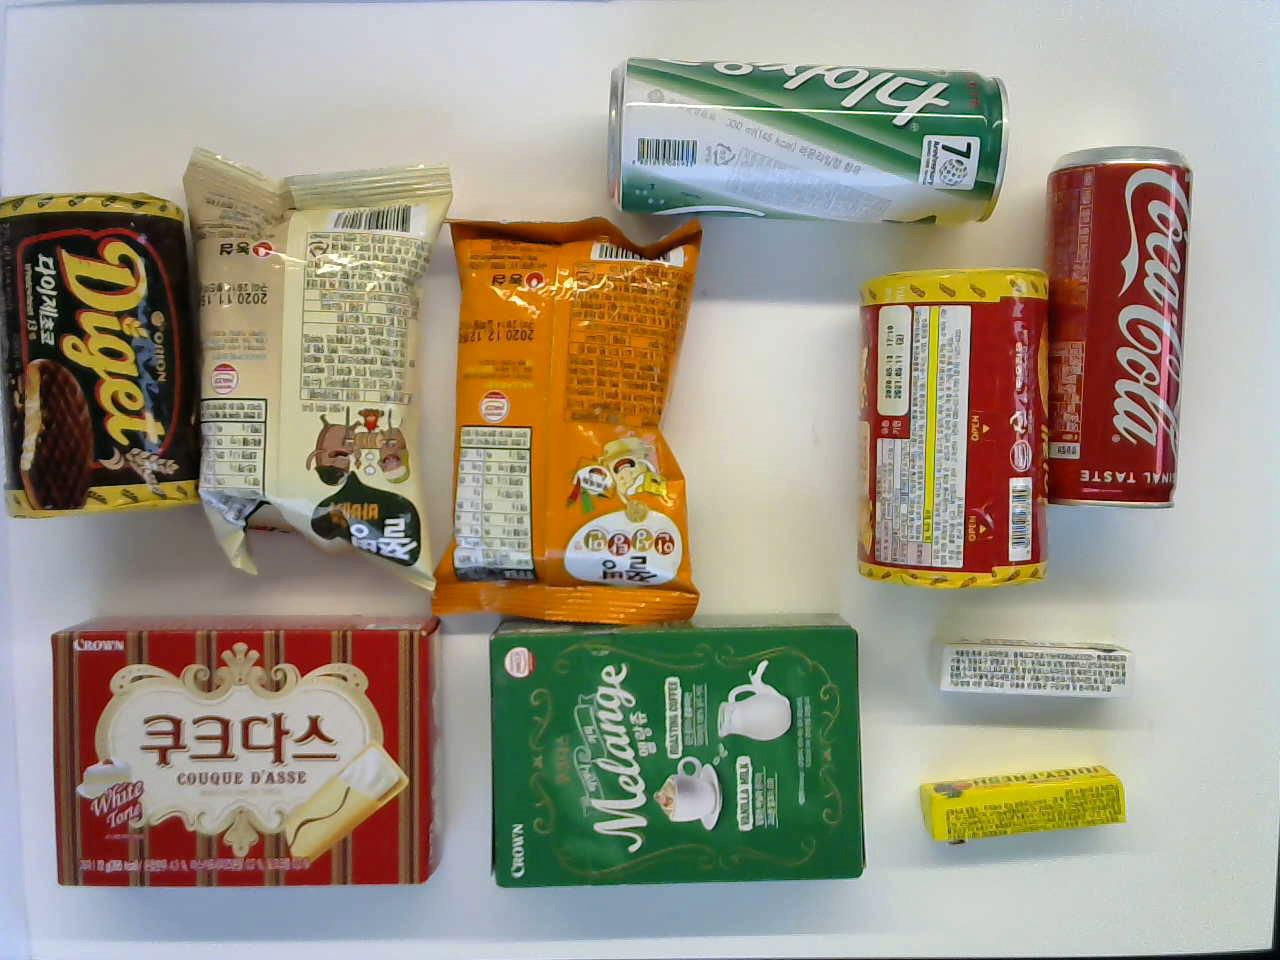cidar: (601, 54, 1009, 232)
coke: (1047, 145, 1196, 517)
couque_coffee: (485, 607, 863, 888)
couque_white: (40, 610, 438, 890)
diget_ori: (0, 183, 194, 535), (857, 268, 1046, 595)
jjolbyung_noodle: (432, 208, 707, 622)
jjolbyung_ori: (187, 157, 463, 569)
juicyfresh: (909, 759, 1134, 856)
spearmint: (927, 629, 1143, 703)
